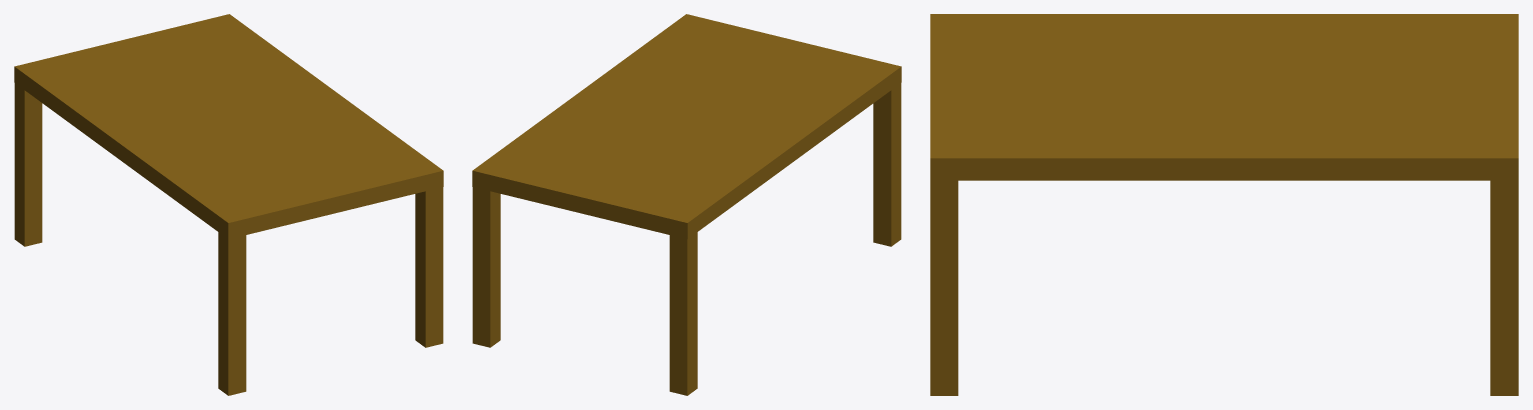
The model's file is Table.fbx.
3 views of the same model, side by side, from view 1: azimuth 30°, elevation 25°; view 2: azimuth 150°, elevation 25°; view 3: azimuth 270°, elevation 25° (orthographic). The views are drawn at different scales.
Parts seen in each view (by area): view 1: Cube; view 2: Cube; view 3: Cube.
Part boxes in pixels (<box>): Cube: <box>14,14,443,395</box>; Cube: <box>472,14,901,395</box>; Cube: <box>930,14,1518,395</box>.
Size of the model in its own units: 353 by 271 by 608.
